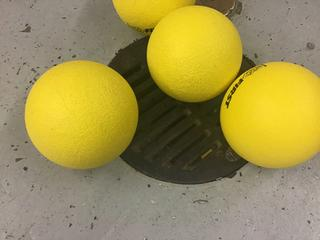power_cell: (27, 65, 138, 175), (224, 52, 319, 164), (147, 7, 247, 96)
